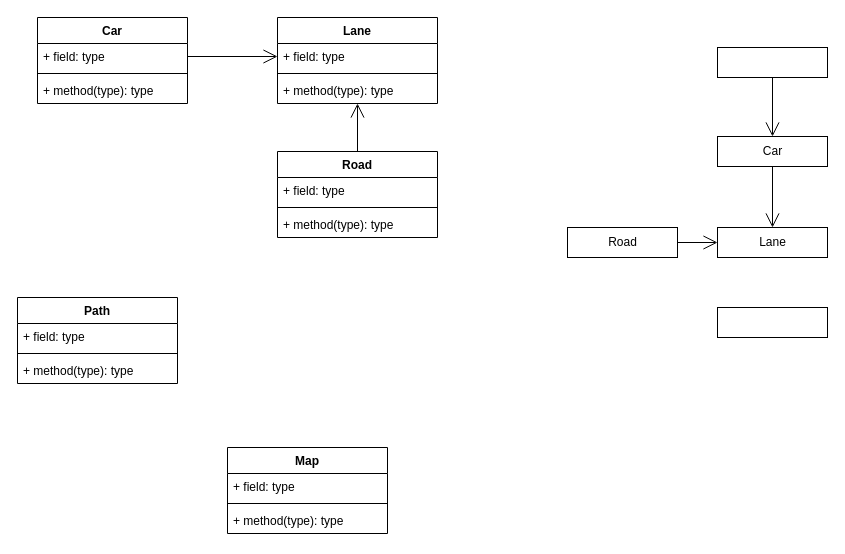
The diagram is 845 pixels wide and 554 high, and some of its shapes have lost their labels. Here are the shapes that lost their labels. From the top down, the centre of each, then its label:
(772,62): Measurement
(772,322): Controller
